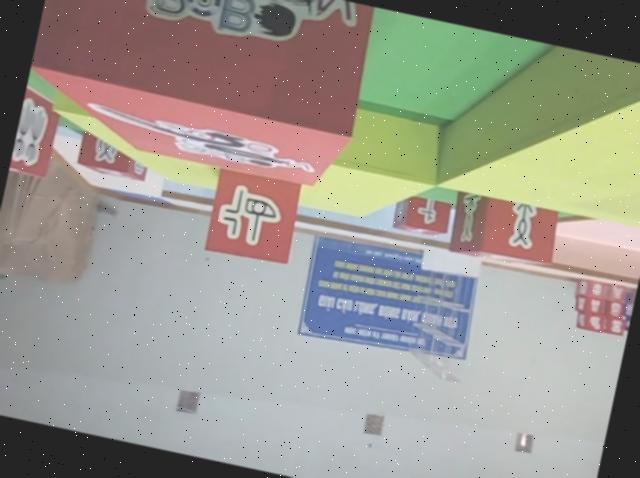R1: (16, 0, 382, 195)
R2 Fake: (7, 85, 65, 183)
R2 Real: (442, 180, 565, 277), (200, 160, 308, 270), (388, 190, 452, 241)
